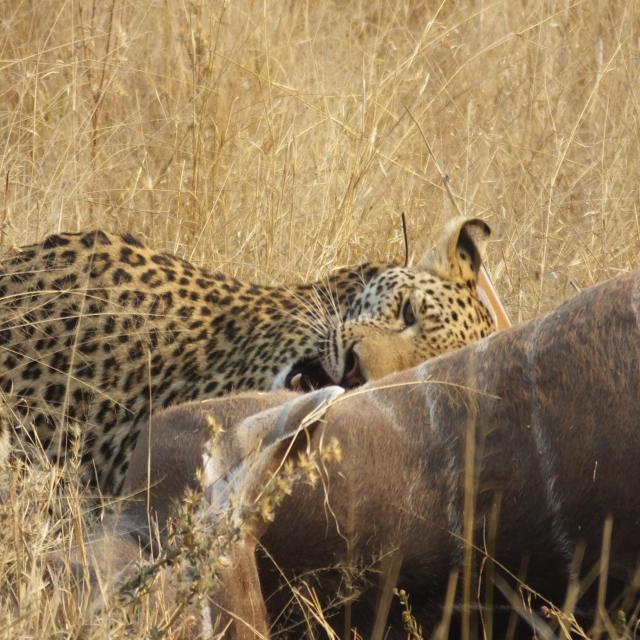Leopard: (11, 212, 494, 524)
